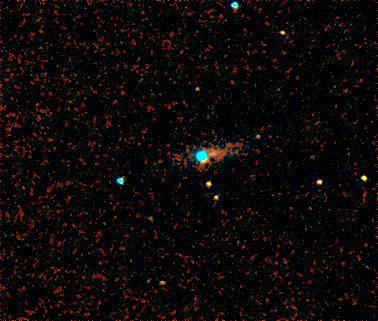star: (140, 203, 170, 233)
